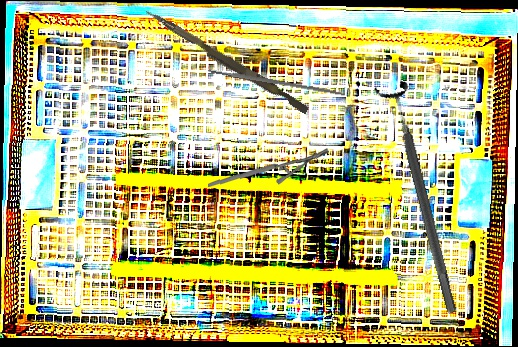Fixation Ring: (372, 78, 470, 318)
Needle Holder: (207, 141, 330, 194)
Pusher: (141, 8, 312, 115)
Scalpel Handle: (206, 66, 346, 98)
